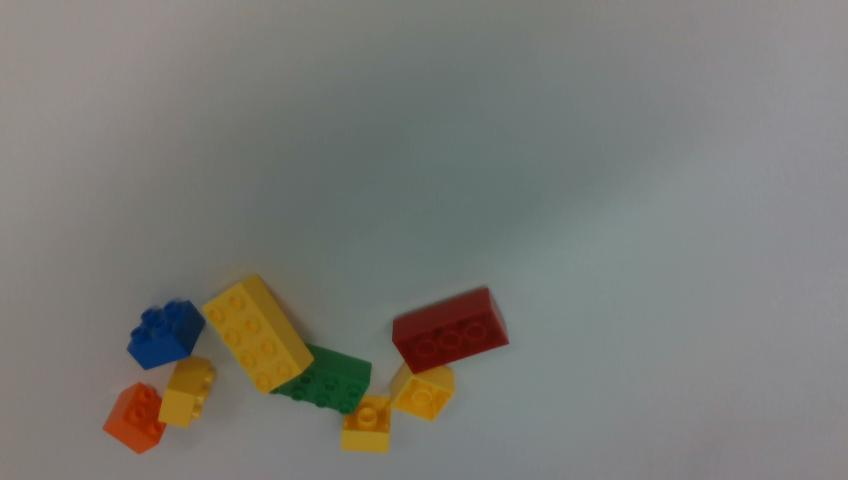2x2_blue: (127, 301, 205, 369)
2x2_orange: (104, 383, 163, 453)
2x2_yellow: (159, 356, 214, 427), (391, 363, 455, 420), (343, 396, 391, 454)
4x2_green: (270, 344, 371, 414)
4x2_red: (392, 287, 508, 373)
4x2_yellow: (204, 274, 313, 393)
